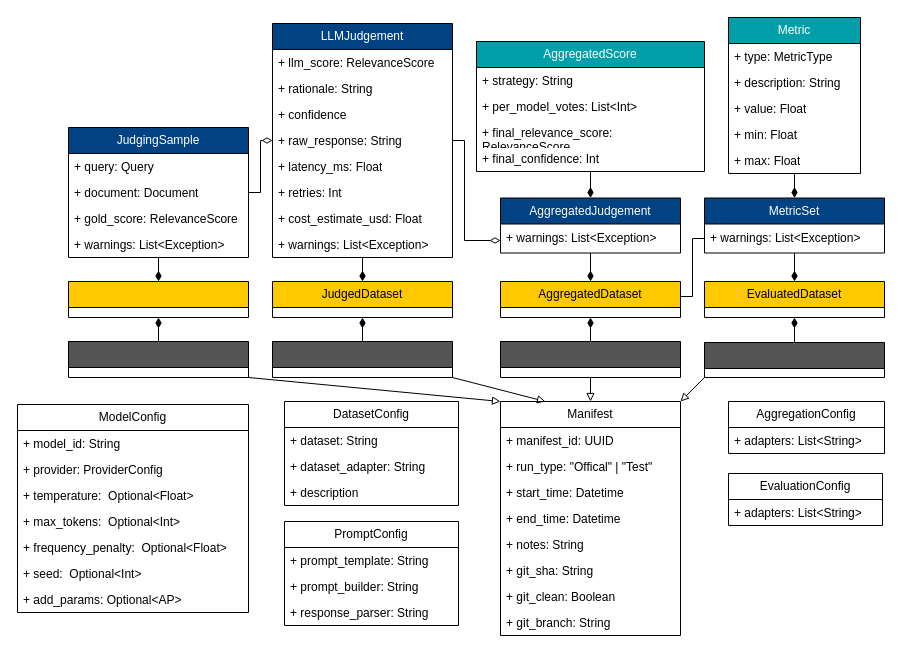
The diagram is 902 pixels wide and 656 high, and some of its shapes have lost their labels. Here are the shapes that lost their labels. From the top down, the centre of each, then its label:
At [158,299]: "NormalizedDataset".
At [158,359]: "IngestManifest".
At [362,359]: "InferManifest".
At [590,359]: "AggregateManifest".
At [794,360]: "EvaluationManifest".
